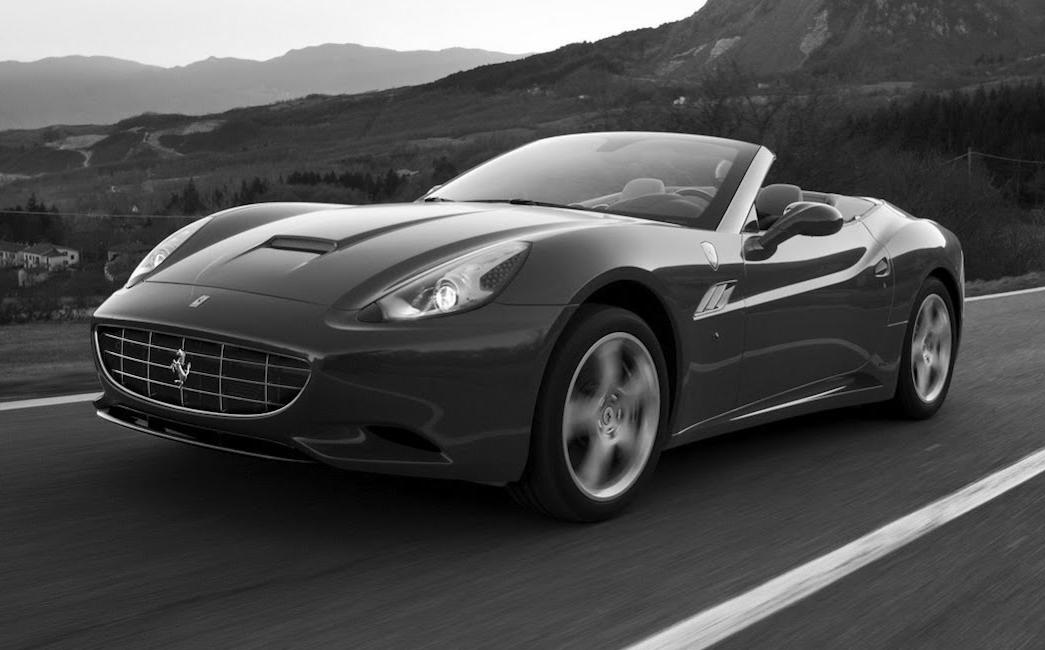car: (87, 128, 968, 524)
